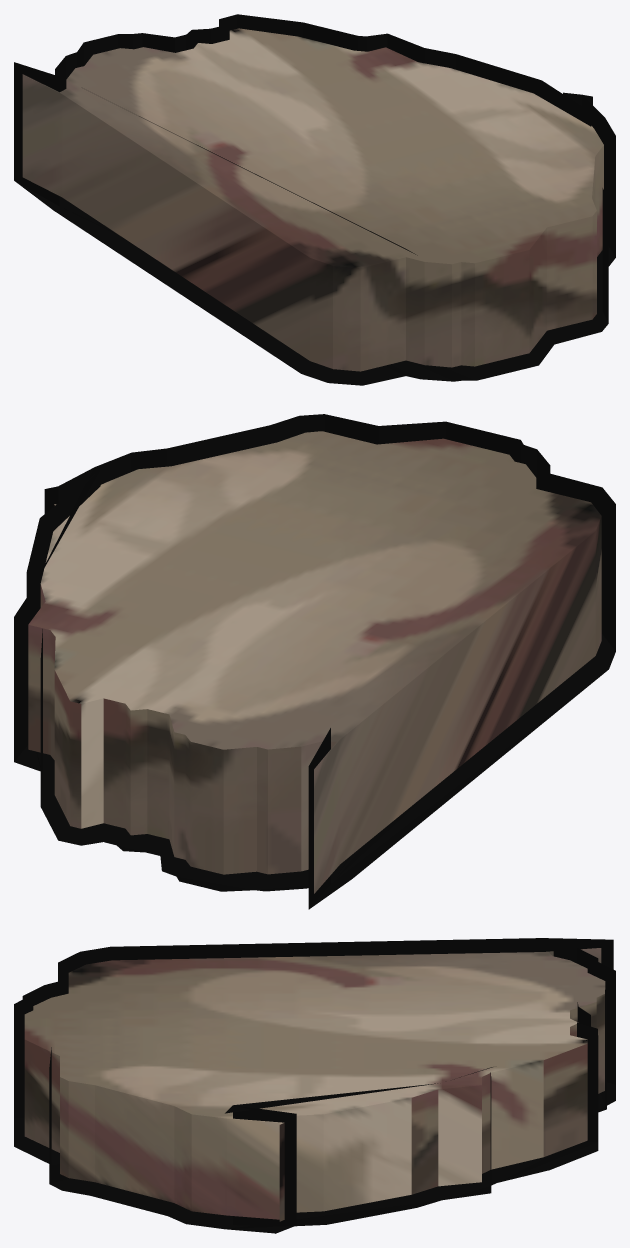
File: Building_CocoonMegaspider_Things_Building_Natural_CocoonMegaspider_CocoonMegaspiderC.glb
3 views of the same model, one above another, from view 1: azimuth 30°, elevation 25°; view 2: azimuth 150°, elevation 25°; view 3: azimuth 270°, elevation 25° (orthographic). The views are drawn at different scales.
Visible parts, largest first — view 1: Body, Outline; view 2: Body, Outline; view 3: Body, Outline.
Part boxes in pixels (<box>): Body: <box>22,28,603,371</box>; Outline: <box>14,14,615,385</box>; Body: <box>28,431,601,893</box>; Outline: <box>14,414,615,909</box>; Body: <box>24,948,605,1221</box>; Outline: <box>14,938,615,1233</box>.
Bounding box in the file's own units: 0.6857 × 0.2165 × 0.9546.
2 materials, 1 textured.
